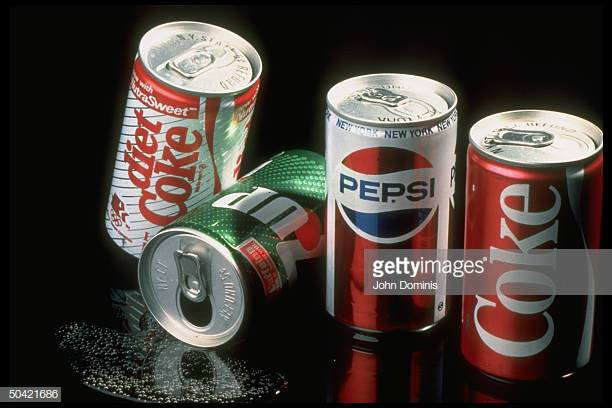pepsi: (335, 144, 437, 238), (338, 144, 437, 238)
